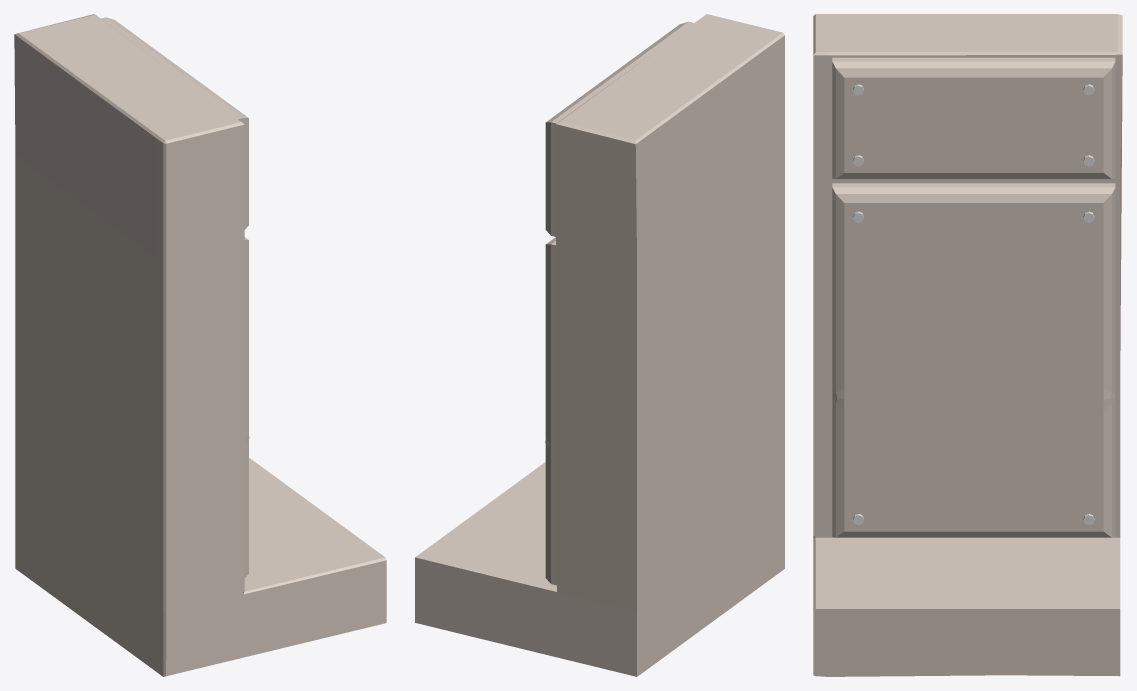
Rendered from Tile1.3.fbx.
3 views of the same model, side by side, from view 1: azimuth 30°, elevation 25°; view 2: azimuth 150°, elevation 25°; view 3: azimuth 270°, elevation 25° (orthographic). The views are drawn at different scales.
Parts seen in each view (by area): view 1: Location.003; view 2: Location.003; view 3: Location.003.
Boxes of the visible parts, bbox=[...] form: Location.003: bbox=[14, 14, 386, 676]; Location.003: bbox=[415, 14, 784, 676]; Location.003: bbox=[813, 14, 1122, 676].
Size of the model in its own units: 55.41 by 128 by 64.84.
